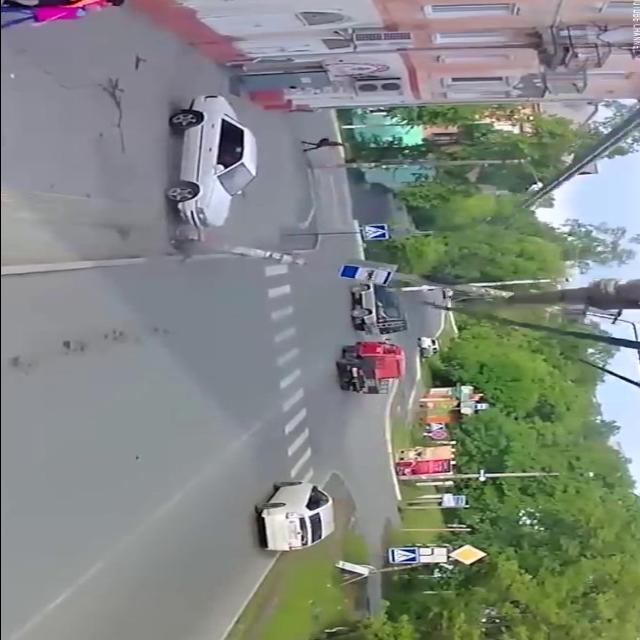accident: (151, 87, 277, 269)
non_accident: (331, 280, 413, 400)
